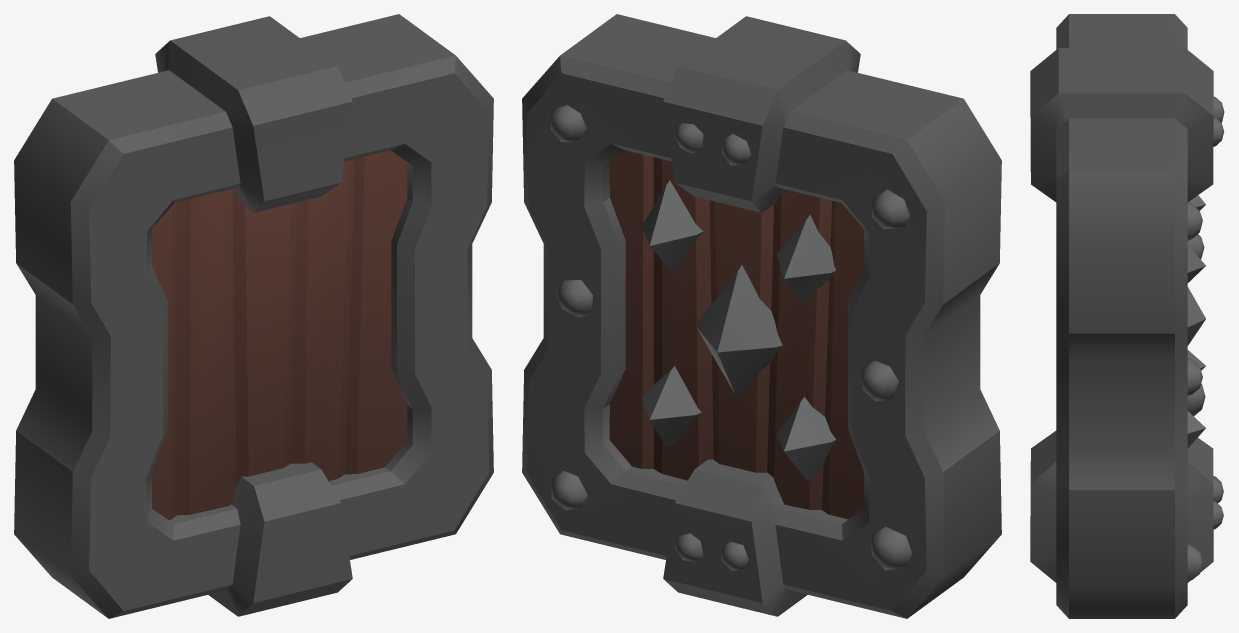
The model's file is Back_9.fbx.
The picture shows the model from 3 angles, left to right: view 1: azimuth 30°, elevation 25°; view 2: azimuth 150°, elevation 25°; view 3: azimuth 270°, elevation 25°; orthographic projection. The views are drawn at different scales.
Parts seen in each view (by area): view 1: Back_9; view 2: Back_9; view 3: Back_9.
Part boxes in pixels (x1,y1,x2,y2): Back_9: (14,14,493,618); Back_9: (522,14,1001,618); Back_9: (1030,14,1224,618).
Bounding box in the file's own units: 50.75 × 60.36 × 21.59.
